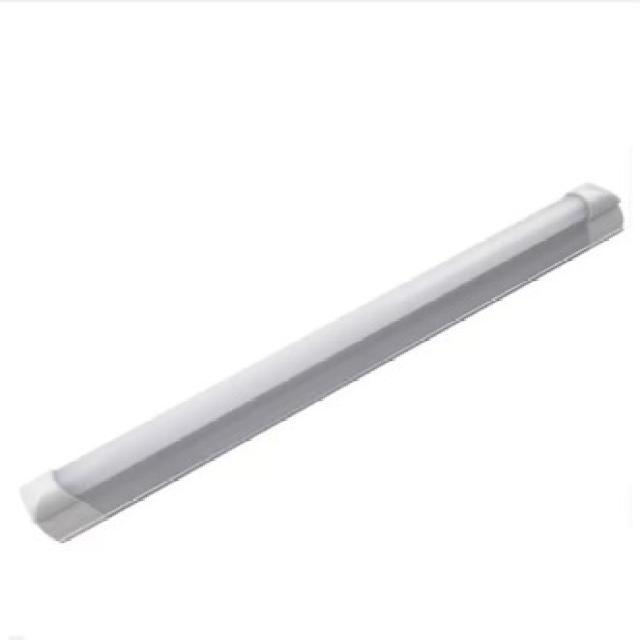tubelight_off: (15, 173, 635, 552)
